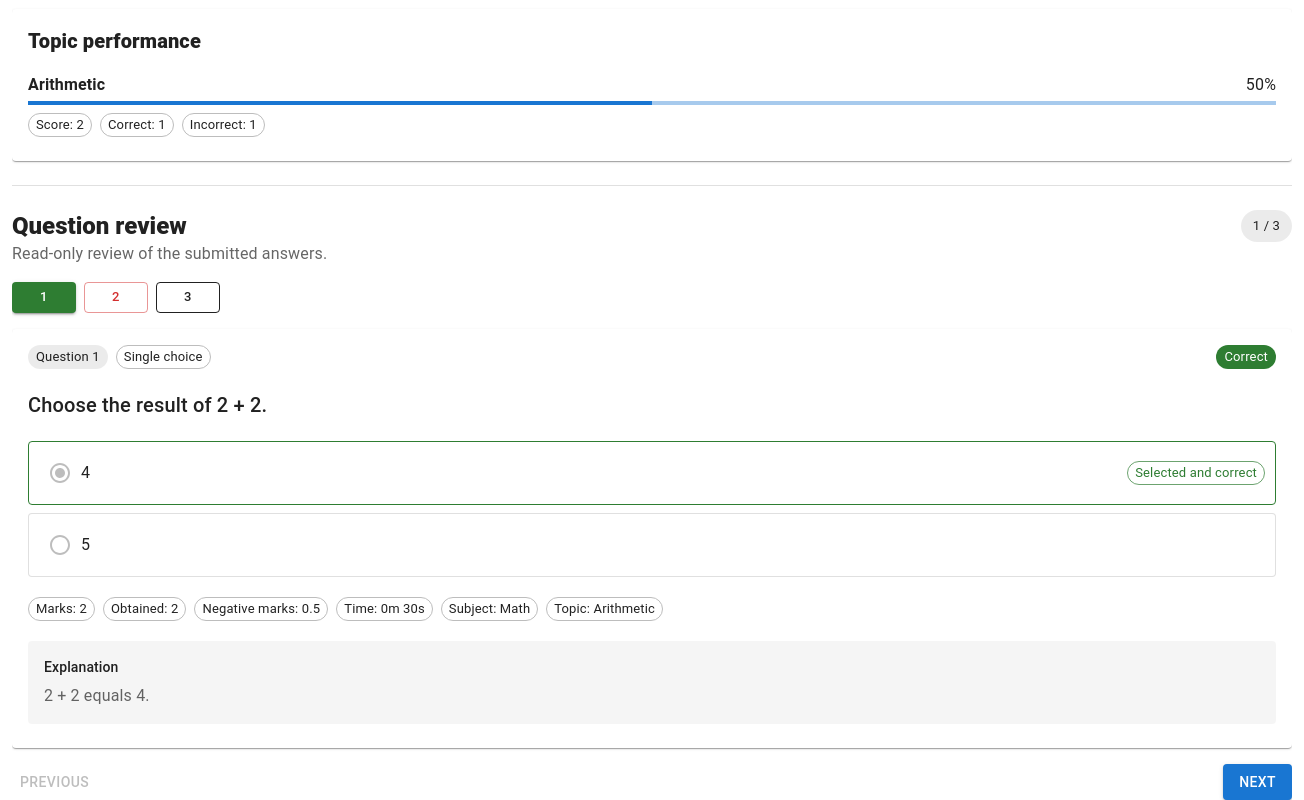
Test: ResultPage › supports question palette and previous/next review navigation without changing answers
(page scrolled)
Step 1. Click the button "Next" → (1258, 782), box [1223,764,1292,799]
(page scrolled)
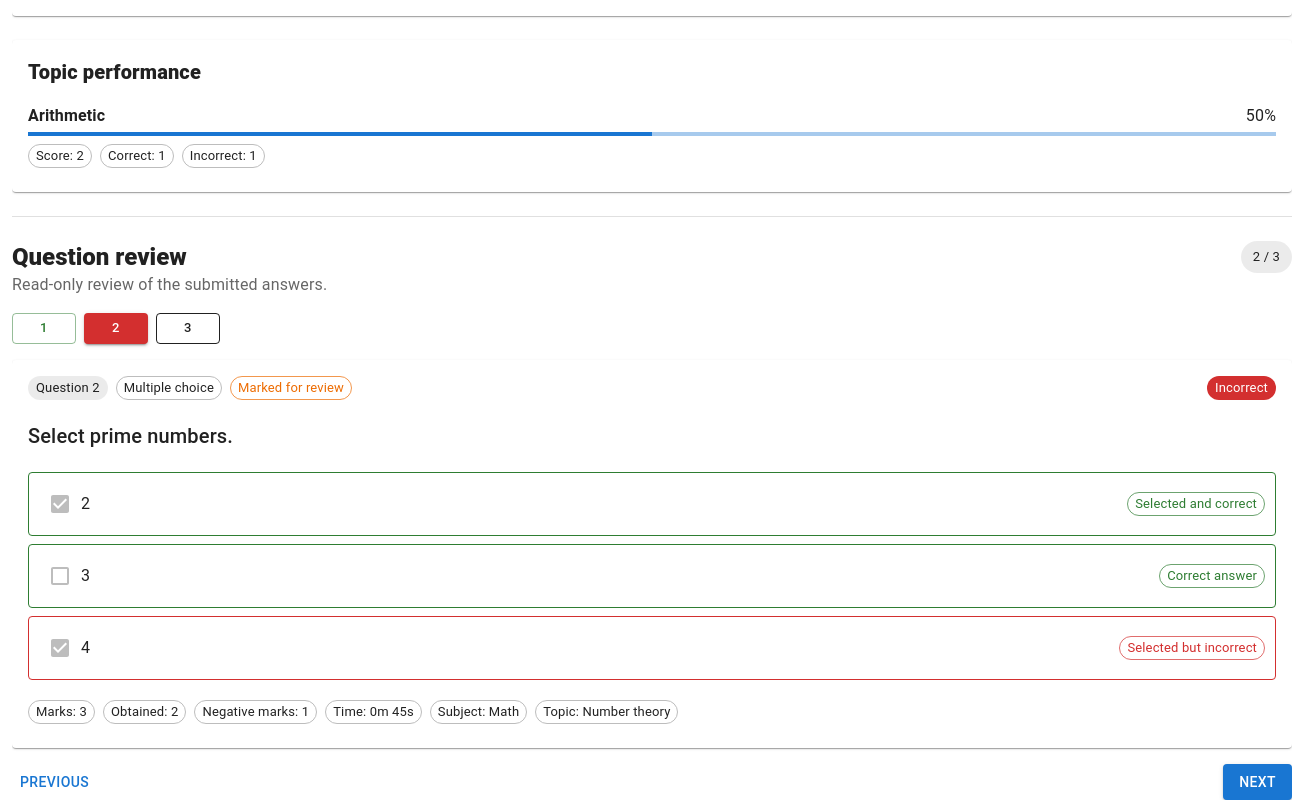
Check: the text "Select prime numbers." is shown, box [28,424,233,448]
Check: the text "Marked for review" is shown, box [231,378,351,398]
Step 2. Click the button "Previous" → (55, 782), box [12,764,97,799]
(page scrolled)
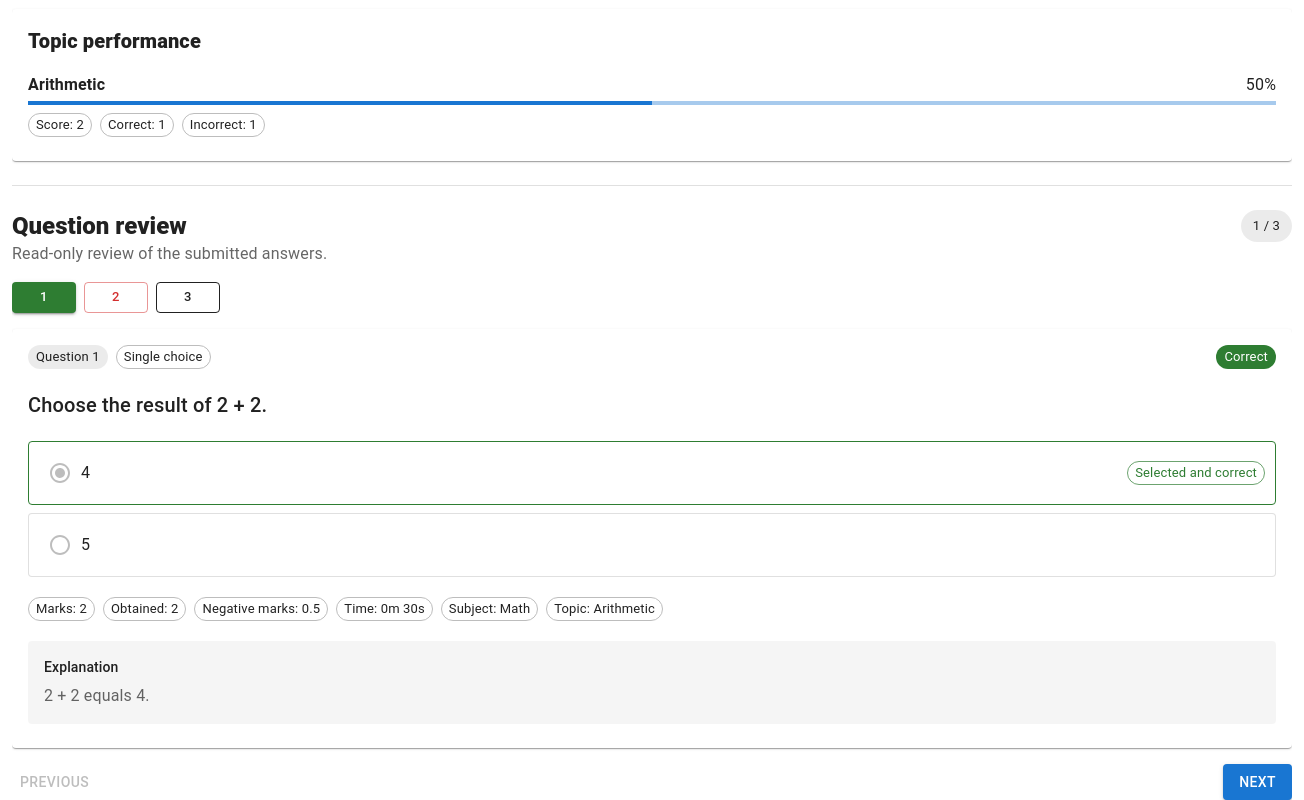
Check: the text "Choose the result of 2 + 2." is shown, box [28,393,267,417]
